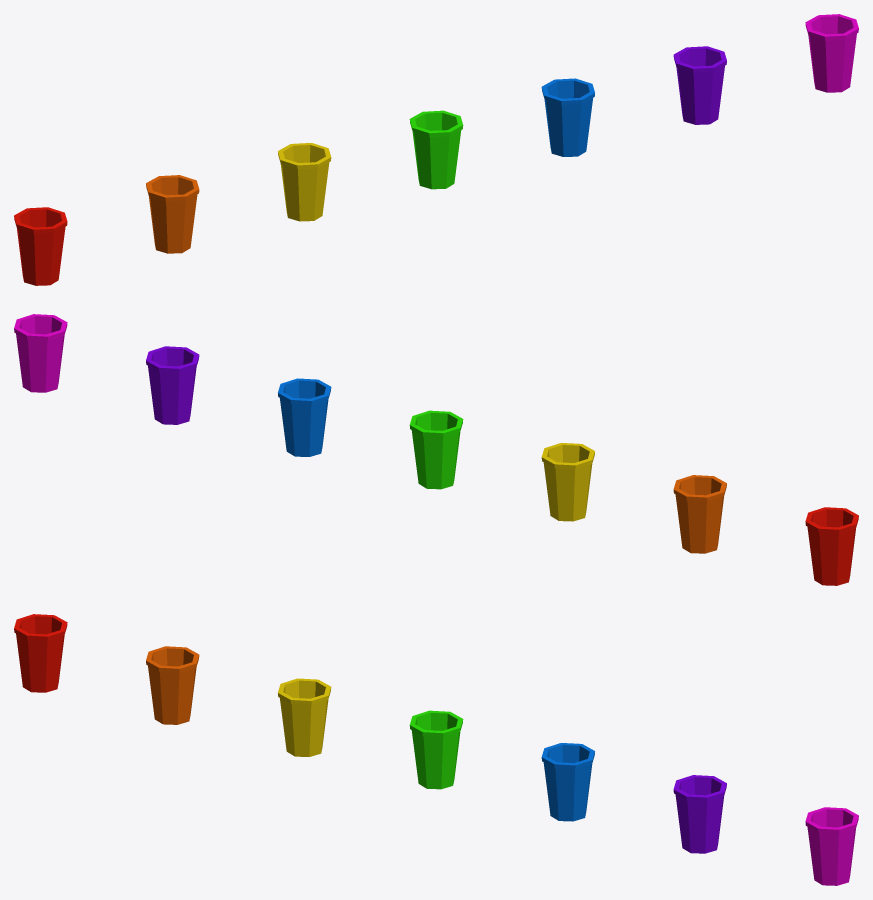
The model's file is Vasos.fbx.
3 views of the same model, one above another, from view 1: azimuth 30°, elevation 25°; view 2: azimuth 150°, elevation 25°; view 3: azimuth 330°, elevation 25° (orthographic).
Parts seen in each view (by area): view 1: vaso7, vaso1, vaso4, vaso3, vaso2, vaso6, vaso5; view 2: vaso7, vaso1, vaso4, vaso3, vaso2, vaso6, vaso5; view 3: vaso1, vaso4, vaso7, vaso5, vaso2, vaso6, vaso3.
Part boxes in pixels (x1,y1,x2,y2): vaso7: (805, 14, 858, 92); vaso1: (14, 207, 67, 285); vaso4: (409, 110, 463, 189); vaso3: (278, 143, 331, 221); vaso2: (146, 175, 199, 253); vaso6: (673, 46, 726, 124); vaso5: (541, 78, 594, 156); vaso7: (14, 314, 67, 392); vaso1: (805, 507, 858, 585); vaso4: (409, 410, 463, 489); vaso3: (541, 443, 594, 521); vaso2: (673, 475, 726, 553); vaso6: (146, 346, 199, 424); vaso5: (278, 378, 331, 456); vaso1: (14, 614, 67, 692); vaso4: (409, 710, 463, 789); vaso7: (805, 807, 858, 885); vaso5: (541, 743, 594, 821); vaso2: (146, 646, 199, 724); vaso6: (673, 775, 726, 853); vaso3: (278, 678, 331, 756).
Bounding box in the file's own units: 6.37 × 0.4343 × 0.3648.
